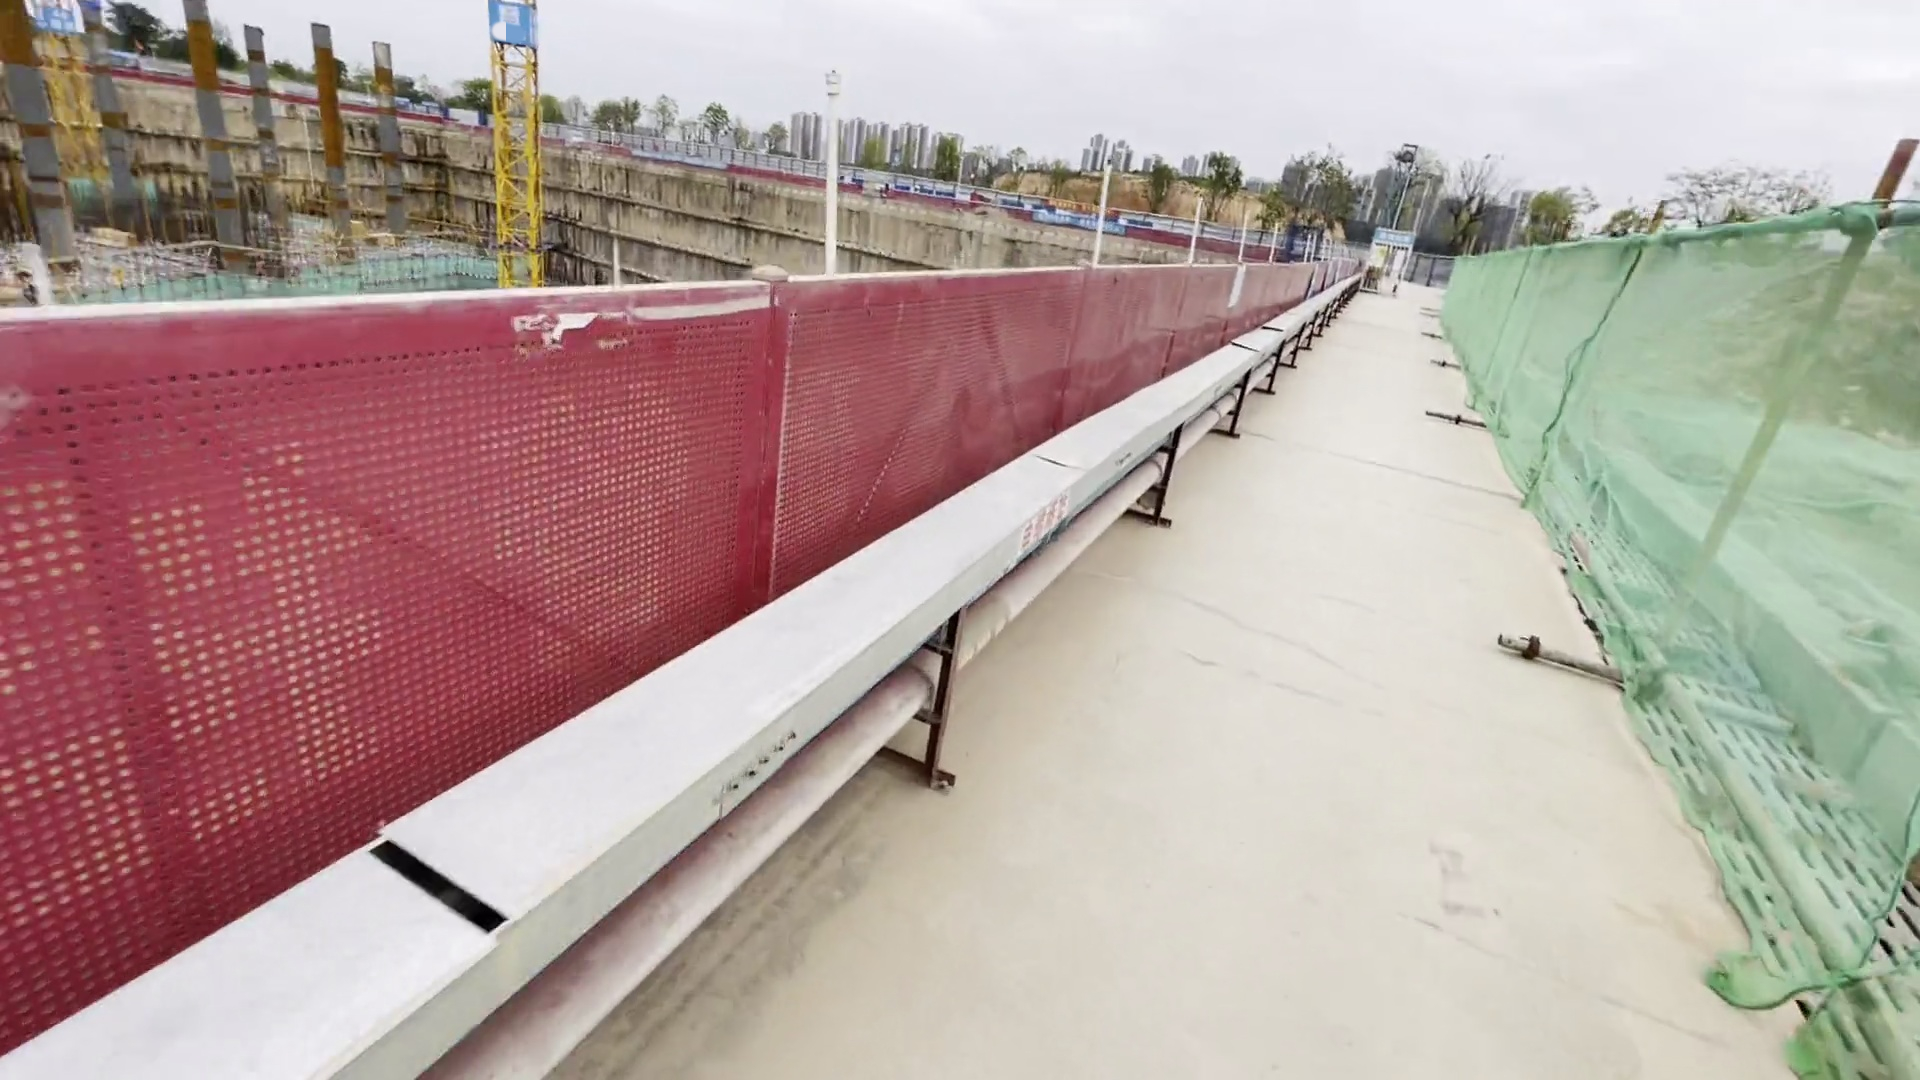fence: (1, 274, 1377, 1055)
